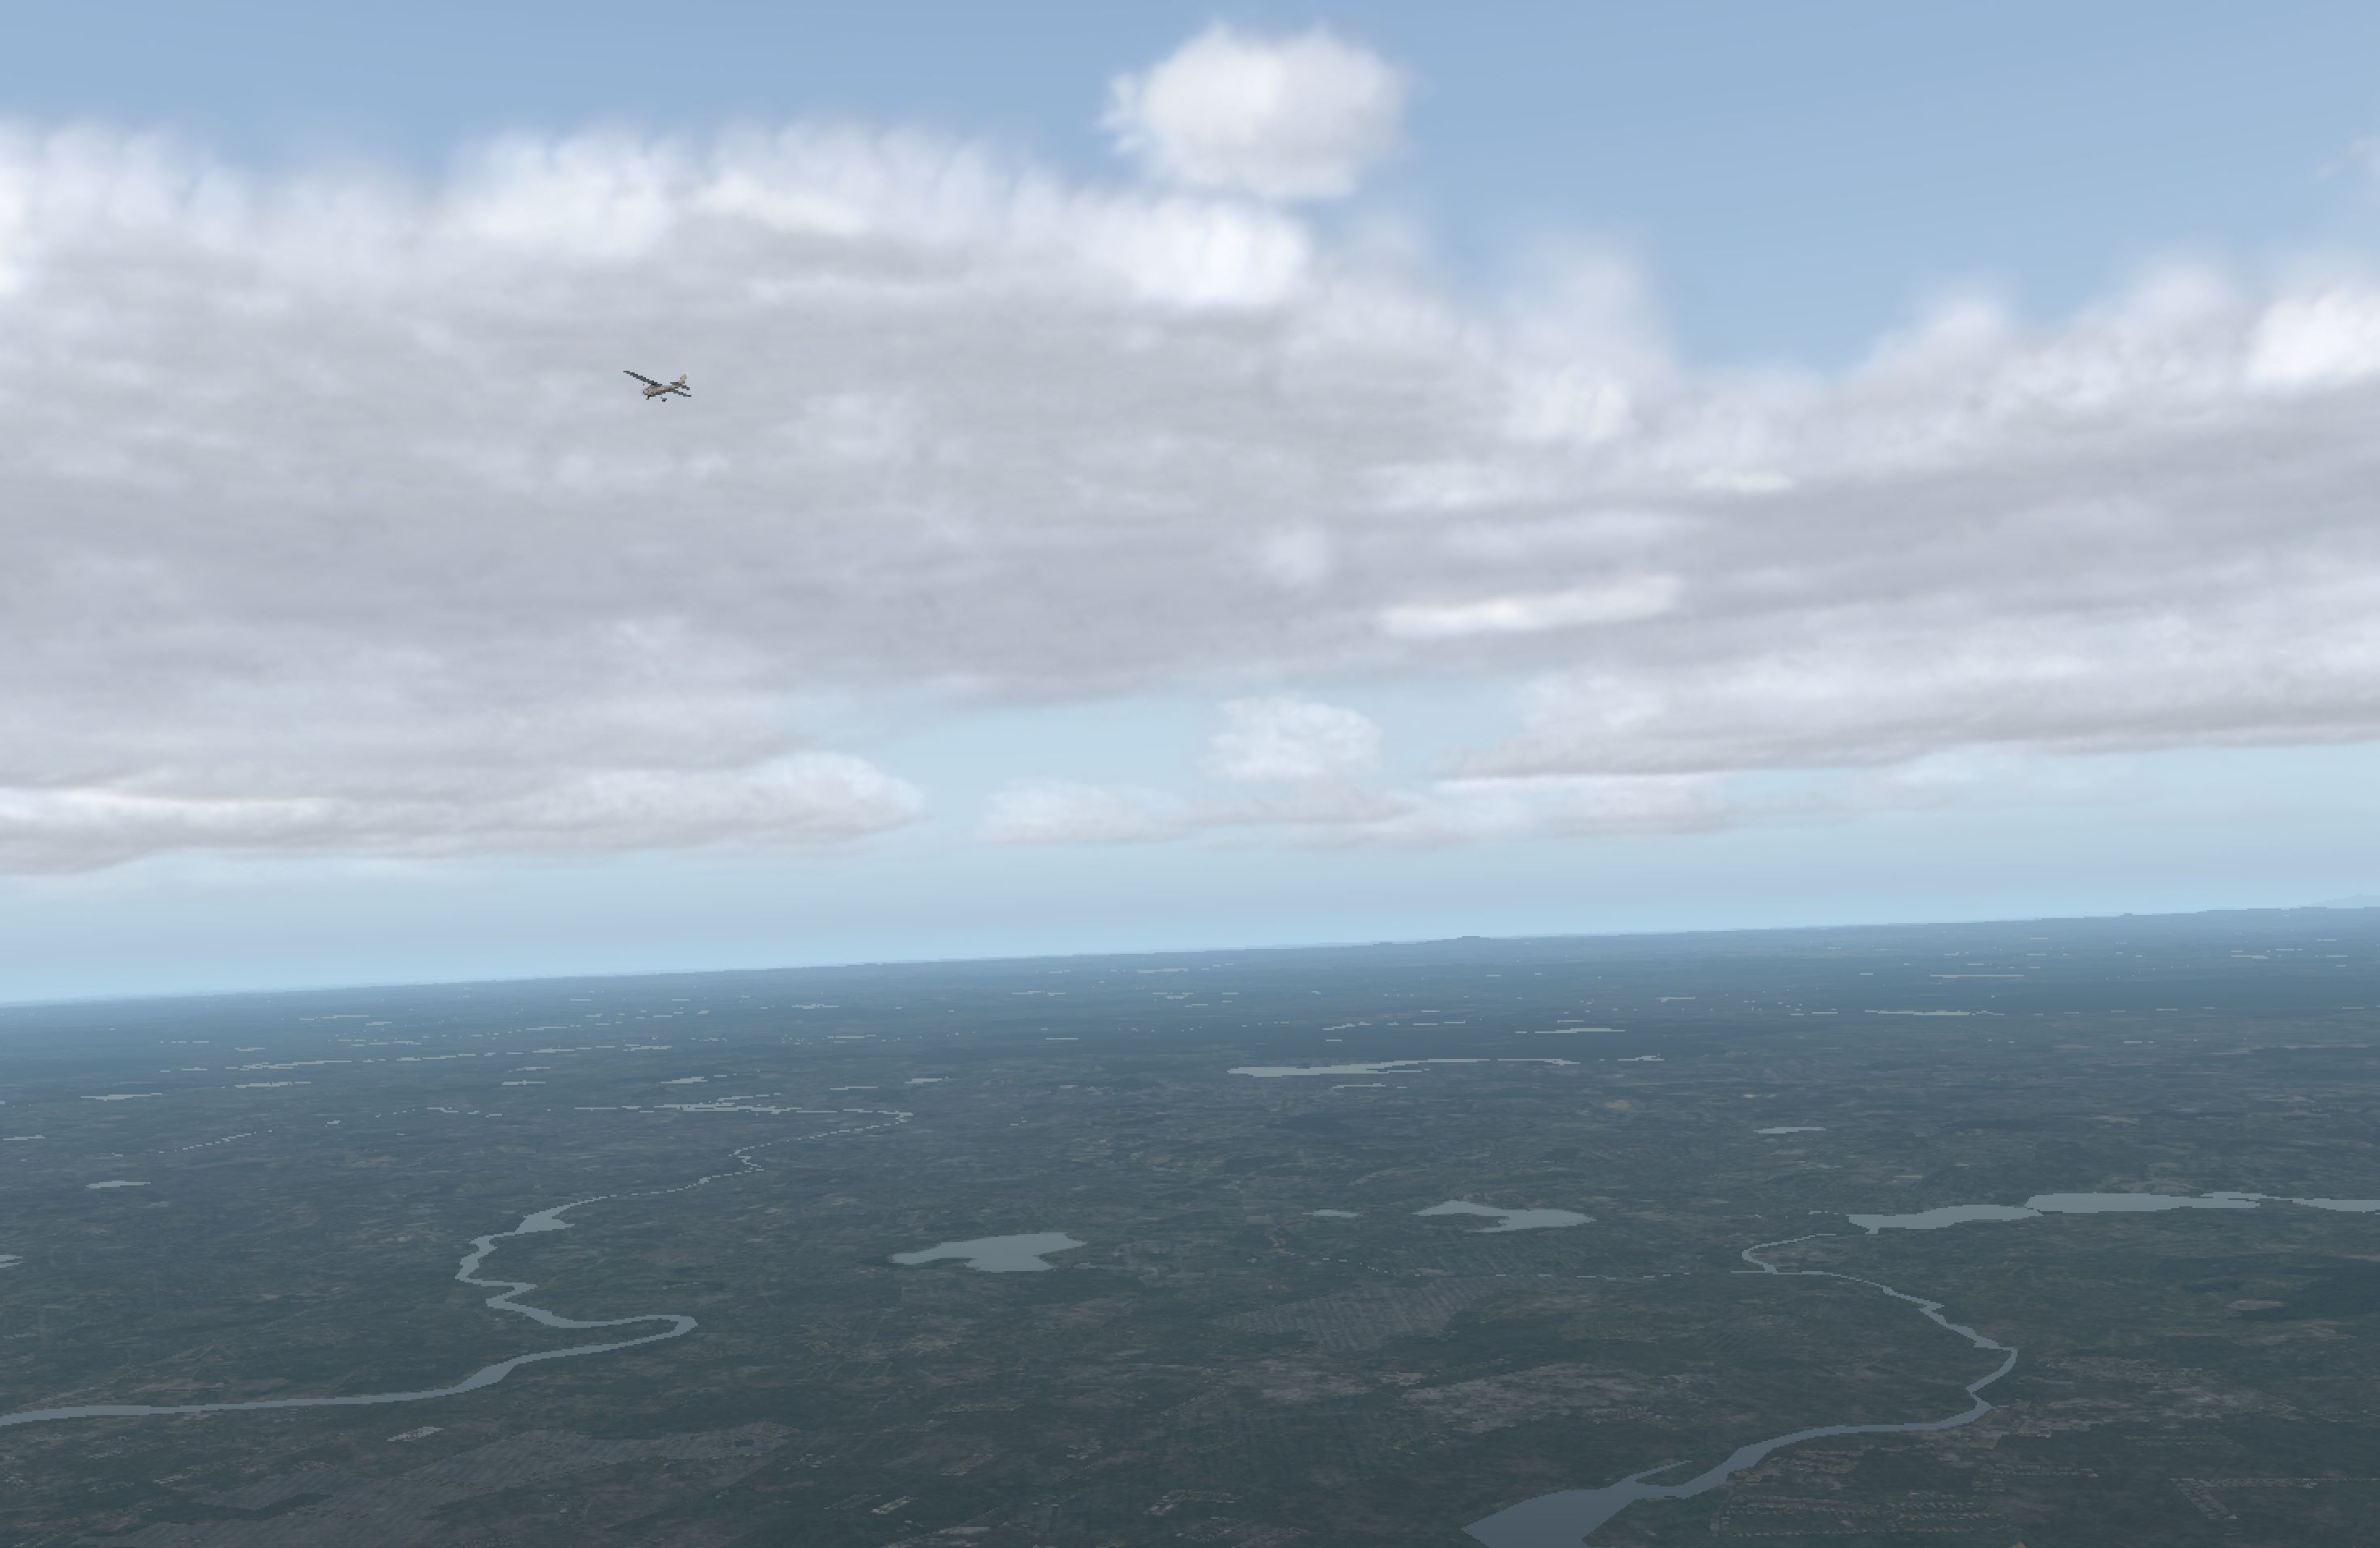aircraft: (628, 378, 683, 399)
